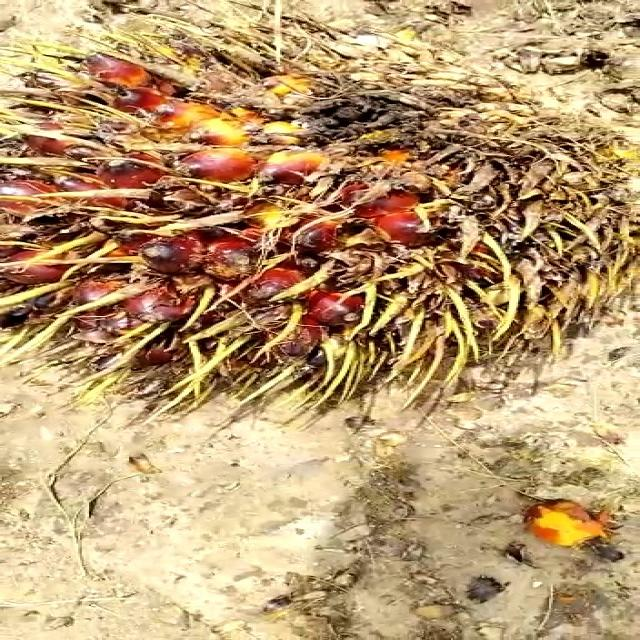palm oil: (0, 39, 640, 398)
